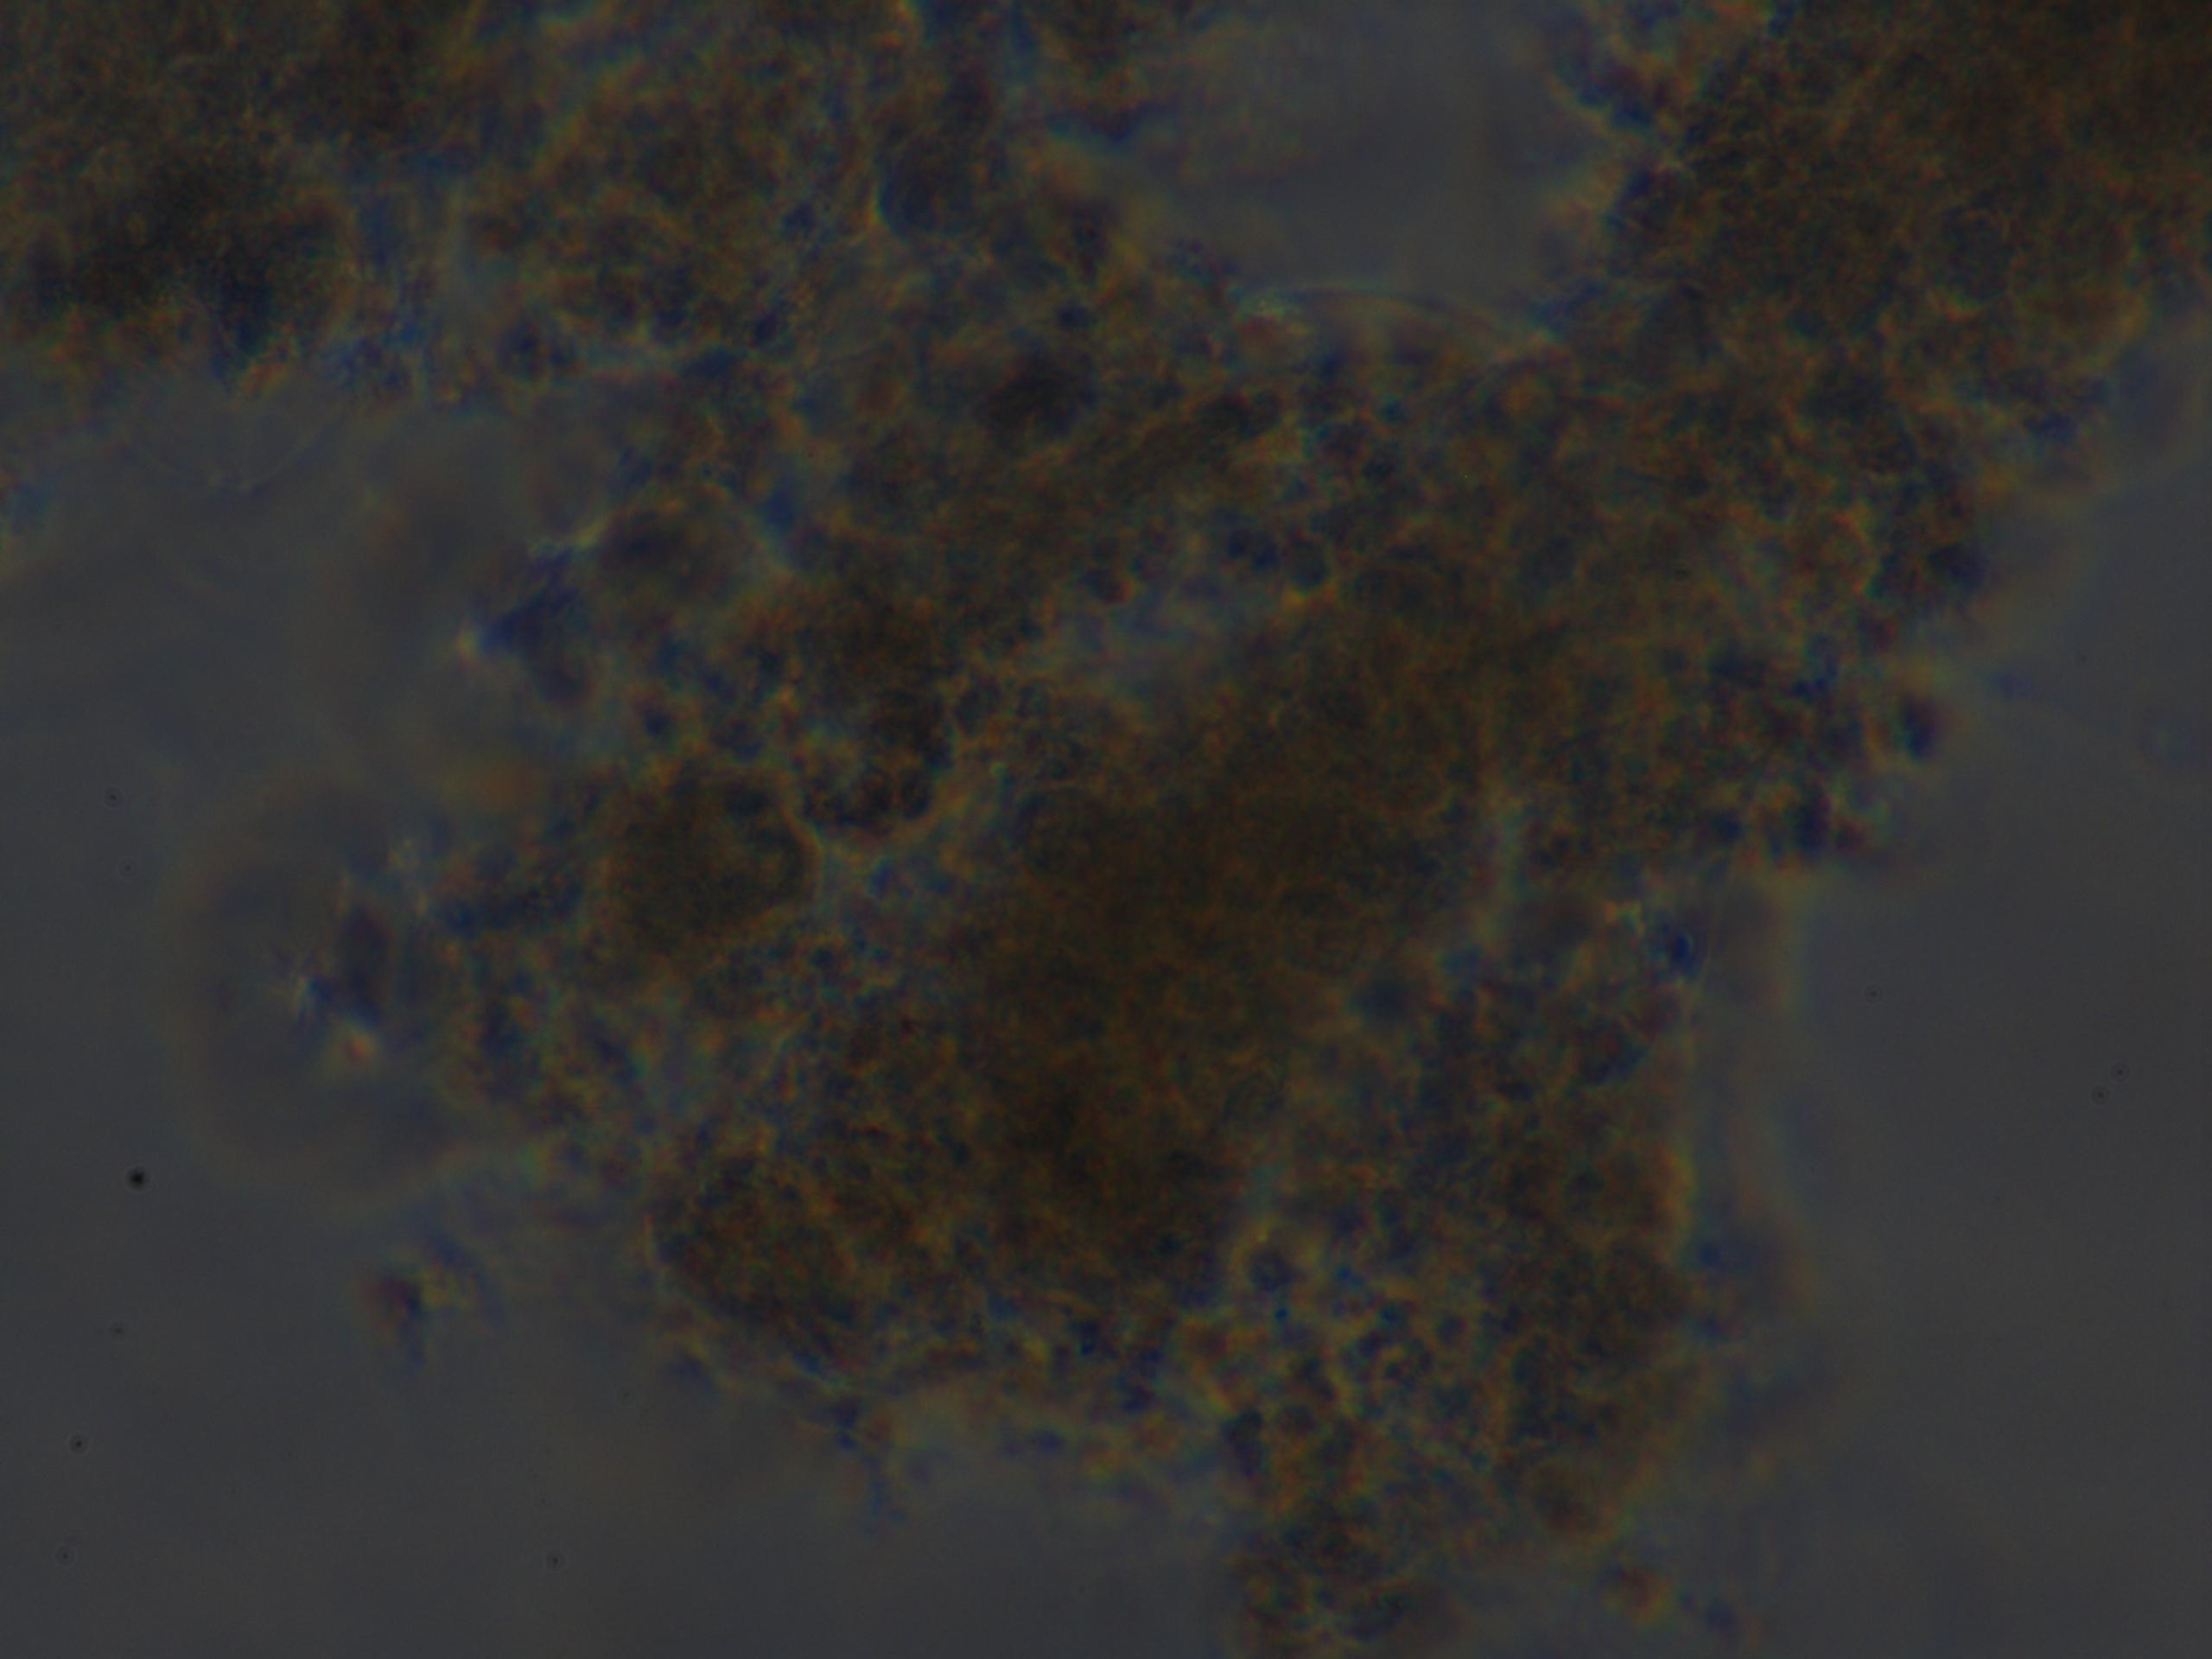open_floc: (293, 0, 2055, 1659)
